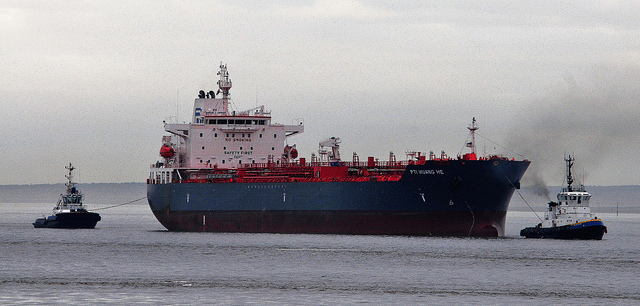tanker: (146, 59, 524, 239)
tug_boat: (524, 140, 616, 253), (29, 155, 109, 231)
